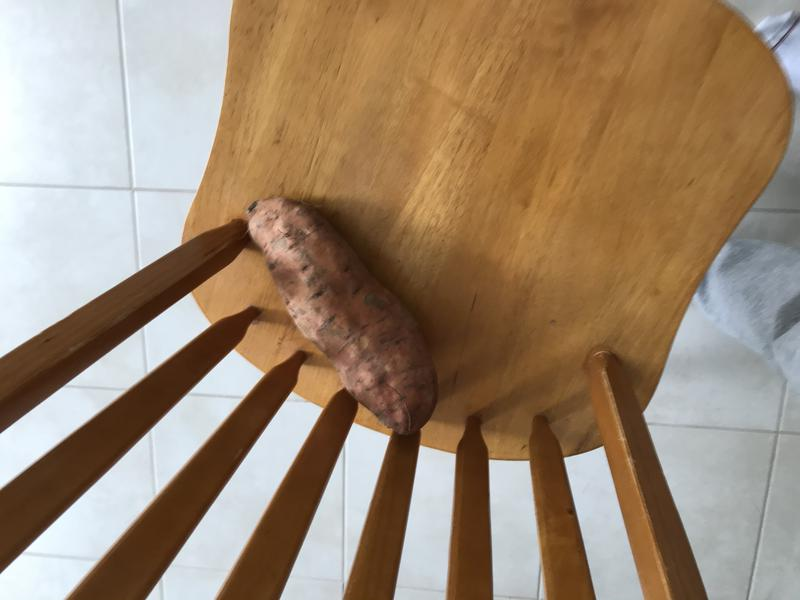sweet_potato: (235, 184, 453, 455)
